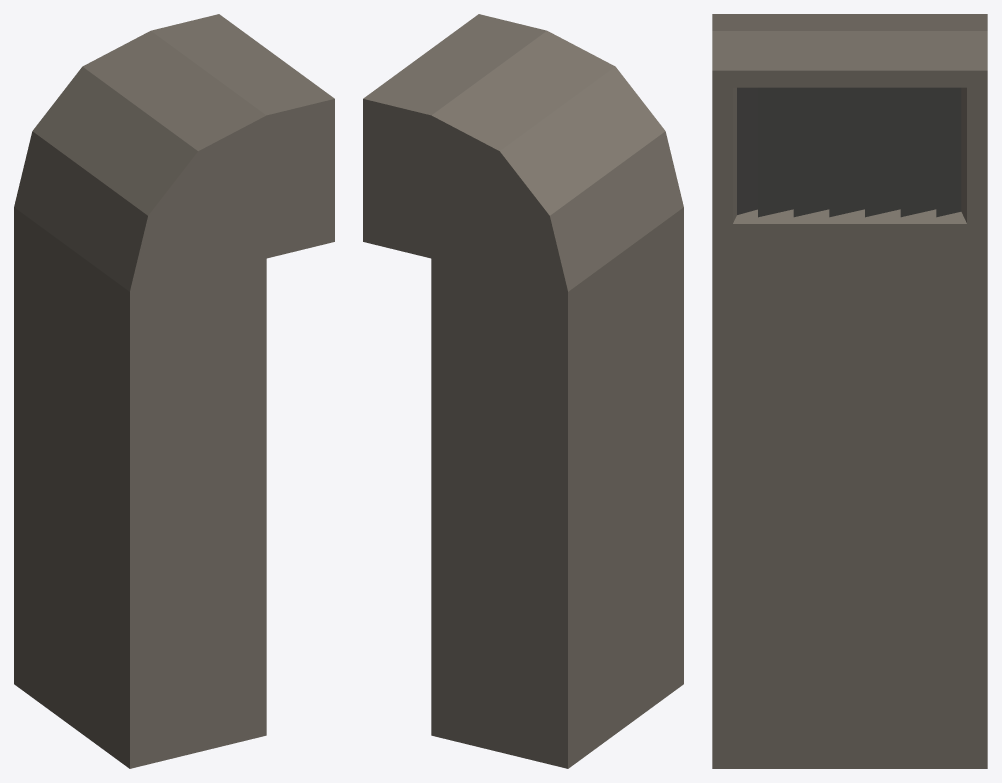
File: SM_Props_Roof_Chimney_01.fbx
3 views of the same model, side by side, from view 1: azimuth 30°, elevation 25°; view 2: azimuth 150°, elevation 25°; view 3: azimuth 270°, elevation 25° (orthographic). The views are drawn at different scales.
Parts seen in each view (by area): view 1: SM_Props_Roof_Chimney_01; view 2: SM_Props_Roof_Chimney_01; view 3: SM_Props_Roof_Chimney_01.
Boxes of the visible parts, box(x1,y1,x2,y2) form: SM_Props_Roof_Chimney_01: box(14, 14, 334, 768); SM_Props_Roof_Chimney_01: box(363, 14, 683, 768); SM_Props_Roof_Chimney_01: box(712, 14, 987, 768).
Size of the model in its own units: 54 by 156 by 52.8.
